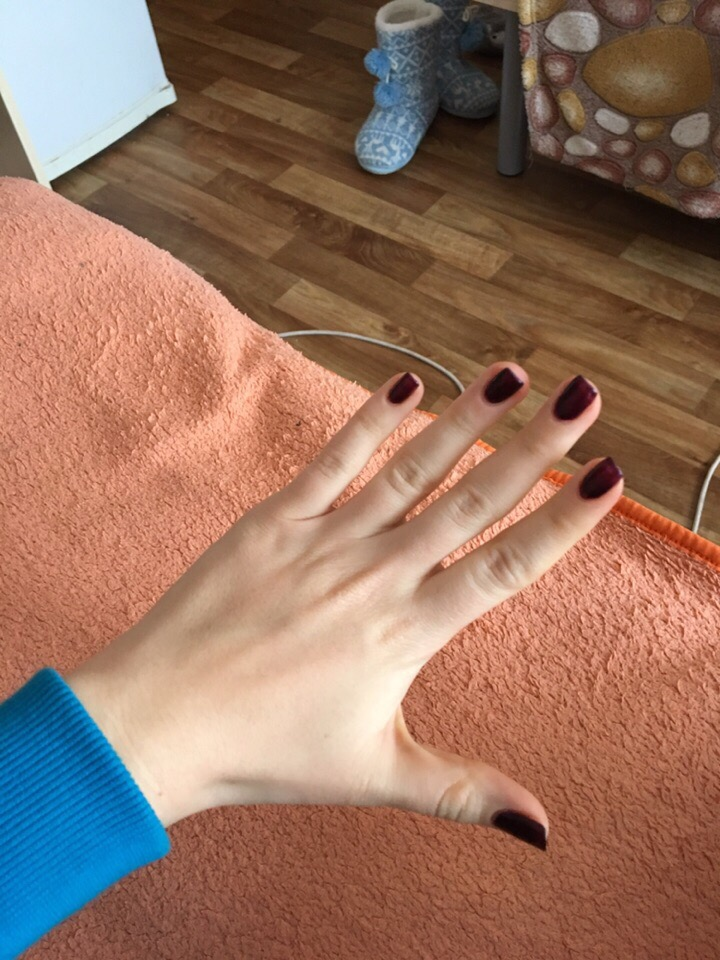hand: (167, 373, 613, 819)
